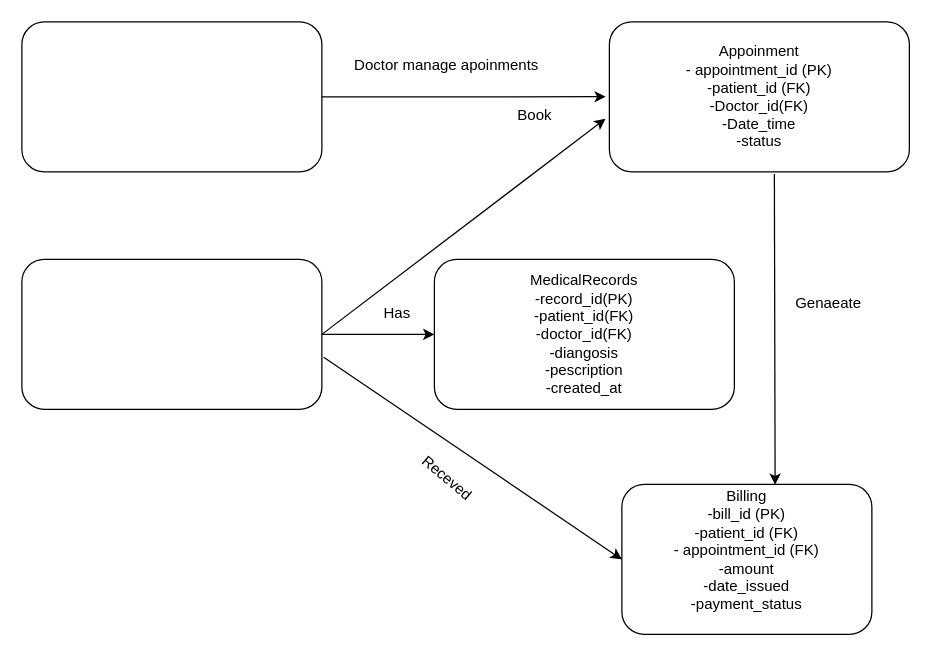
This 931x656 diagram has some shape labels left out. Each missing label, with the centre of its shape:
Patiënt -patient_id (PK) -name -age – gender – contact_info -medical_history: the point at 171,333
Users -user_id -username -password (hashed) -role(Admin, doctor, reception): the point at 171,96
